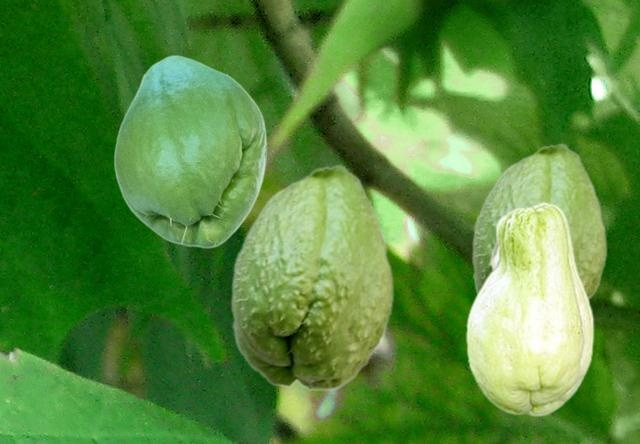sayote: (230, 163, 394, 391), (113, 55, 266, 248), (465, 201, 593, 416), (471, 142, 607, 299)
